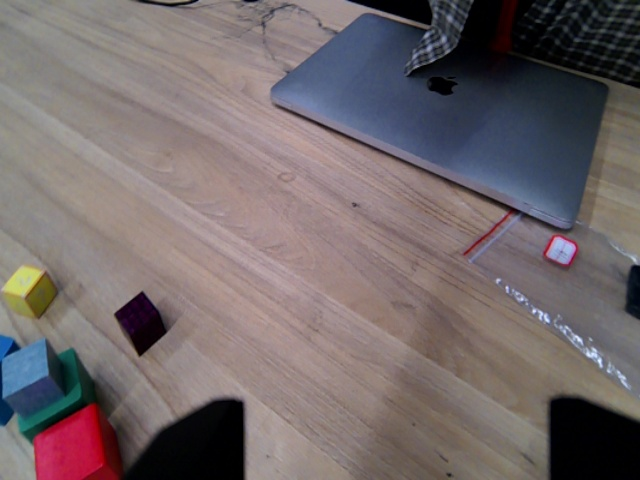brick: (113, 288, 166, 352)
lucky: (2, 262, 58, 315)
stone: (5, 335, 69, 417)
